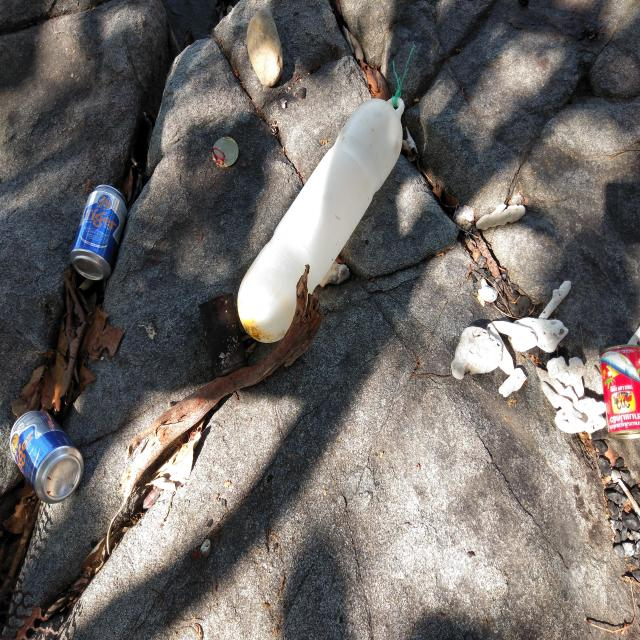litter: (236, 89, 408, 345), (10, 411, 84, 507), (70, 188, 130, 281), (600, 345, 638, 435), (210, 135, 236, 164)
